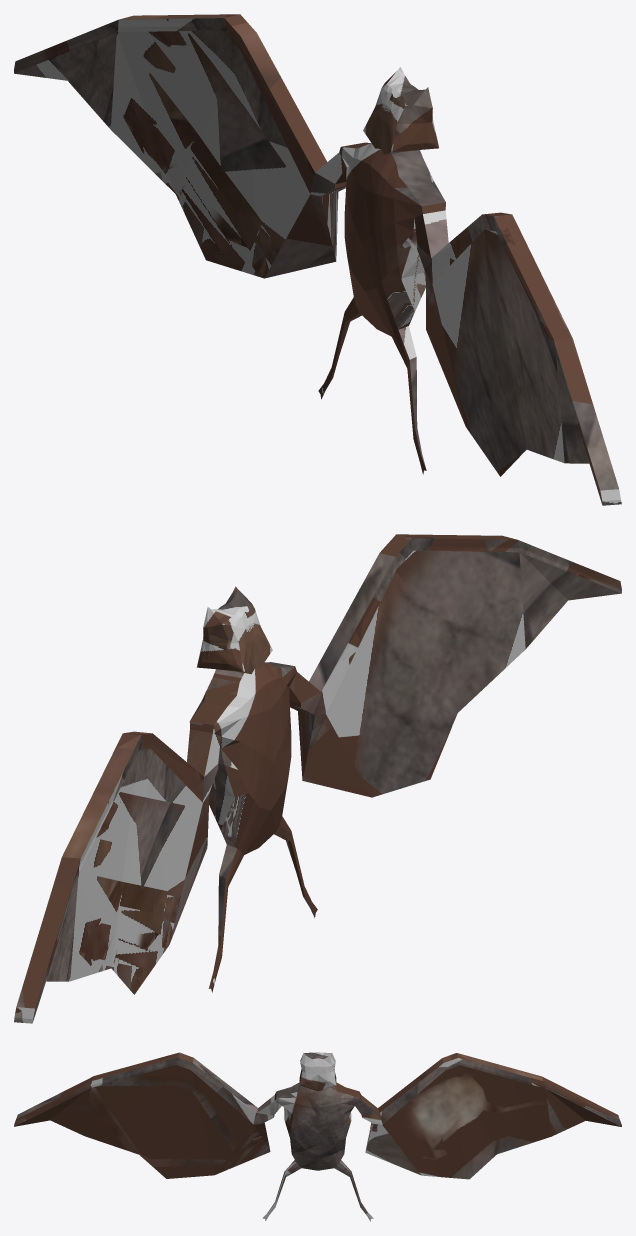
The model's file is Enemigo13.obj.
The picture shows the model from 3 angles, top to bottom: view 1: azimuth 30°, elevation 25°; view 2: azimuth 150°, elevation 25°; view 3: azimuth 270°, elevation 25°; orthographic projection. The views are drawn at different scales.
Visible parts, largest first — view 1: Plano; view 2: Plano; view 3: Plano.
Boxes of the visible parts, x1,y1,x2,y2 form: Plano: (14,14,621,505); Plano: (14,534,621,1023); Plano: (14,1052,621,1221).
Size of the model in its own units: 0.2647 by 0.7538 by 2.32.
Materials: 1 (1 with a texture image).
